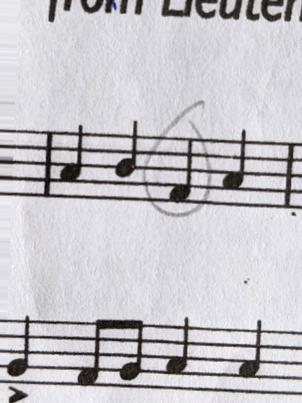note: (110, 115, 142, 205), (163, 313, 194, 397), (220, 126, 249, 211), (57, 121, 84, 205), (237, 317, 265, 398), (165, 134, 196, 207), (4, 313, 33, 388)
